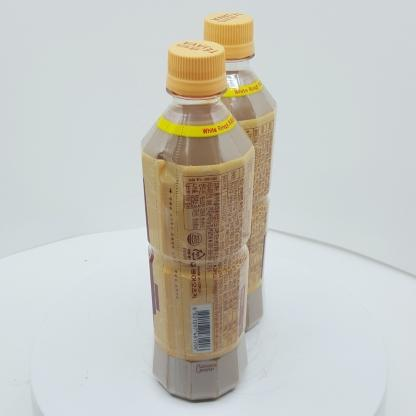-------------500ML: (140, 40, 255, 400)
